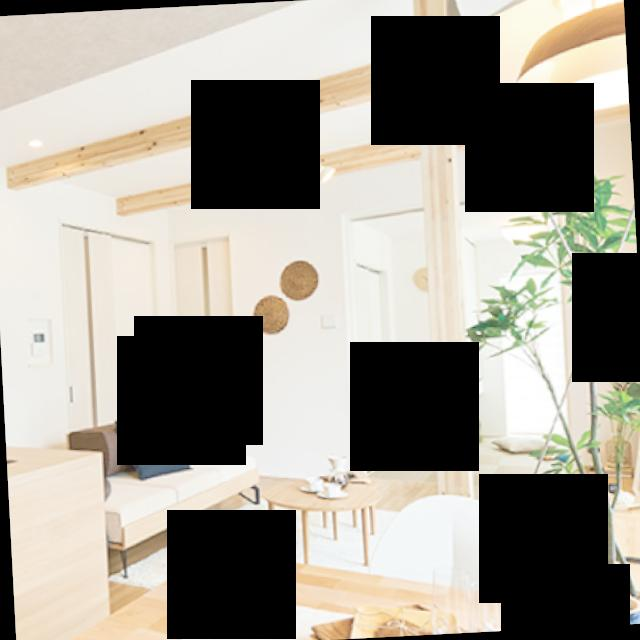natural desk: (262, 468, 388, 576)
natural sofa: (65, 409, 264, 560)
